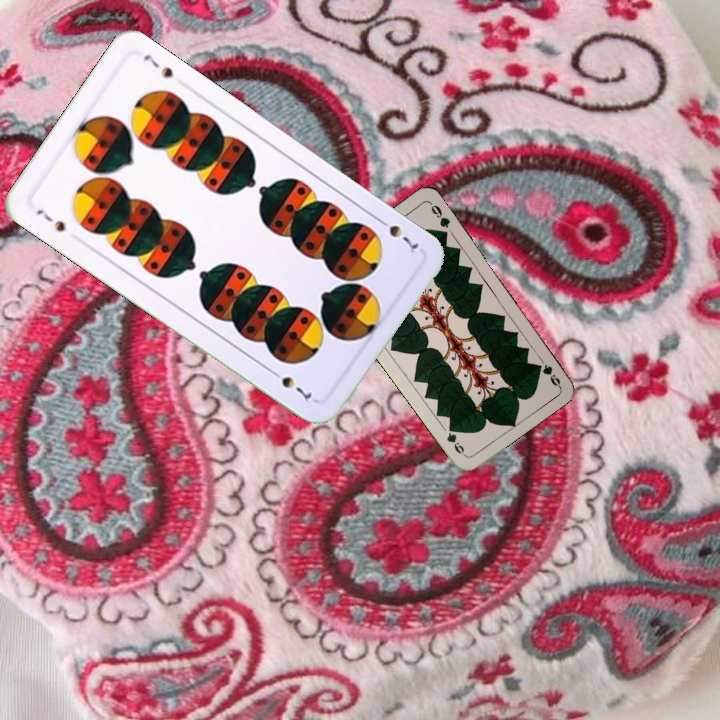G9: (534, 353, 563, 389)
S7: (372, 213, 422, 256), (32, 205, 68, 235)
